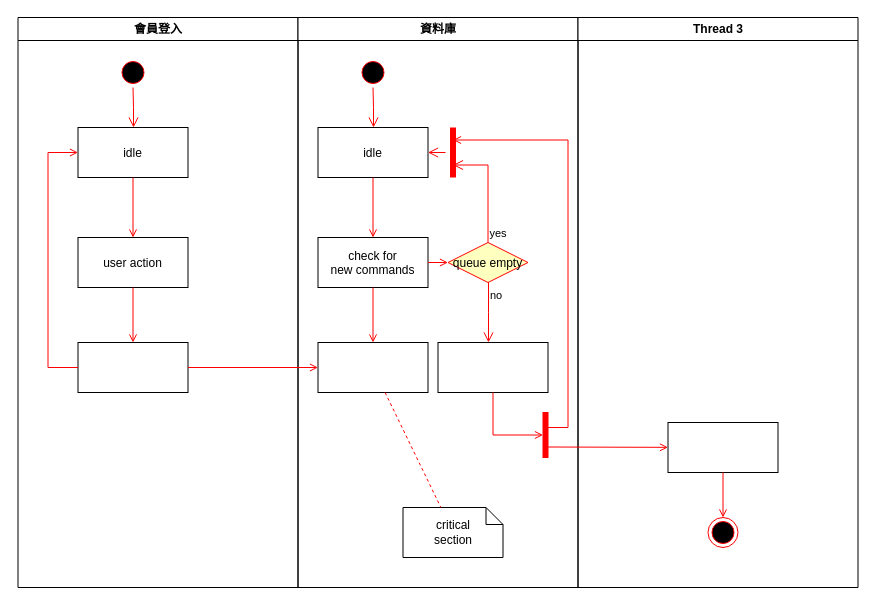
Some shapes in this 875 by 605 pixel diagram are drawn without their labels. The centre of each missing label's shape, as x and y in pixels:
"command queue" belongs at pixel 372 367.
"dispatch command worker thread" belongs at pixel 492 367.
"post command" belongs at pixel 132 367.
"process command" belongs at pixel 722 447.
